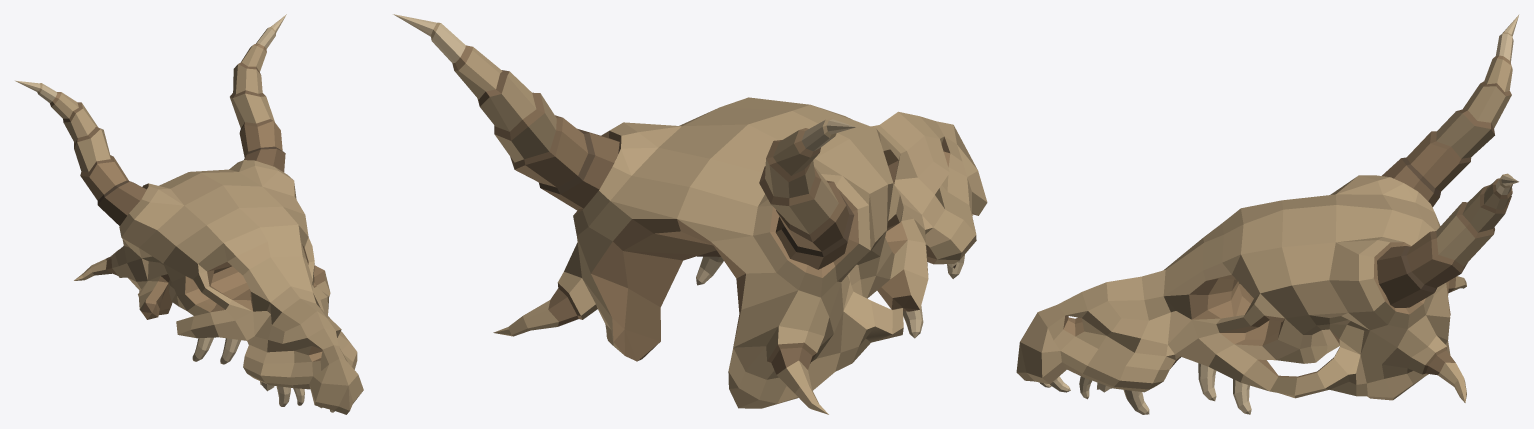
Rendered from SM_Env_Bone_Skull_01.glb.
3 views of the same model, side by side, from view 1: azimuth 30°, elevation 25°; view 2: azimuth 150°, elevation 25°; view 3: azimuth 270°, elevation 25° (orthographic). The views are drawn at different scales.
Visible parts, largest first — view 1: SM_Env_Bone_Skull_01; view 2: SM_Env_Bone_Skull_01; view 3: SM_Env_Bone_Skull_01.
Part boxes in pixels (x1,y1,x2,y2): SM_Env_Bone_Skull_01: (15, 14, 363, 414); SM_Env_Bone_Skull_01: (393, 14, 987, 414); SM_Env_Bone_Skull_01: (1016, 14, 1519, 414).
Bounding box in the file's own units: 0.0928 × 0.0759 × 0.1174.
Materials: 1 (1 with a texture image).
